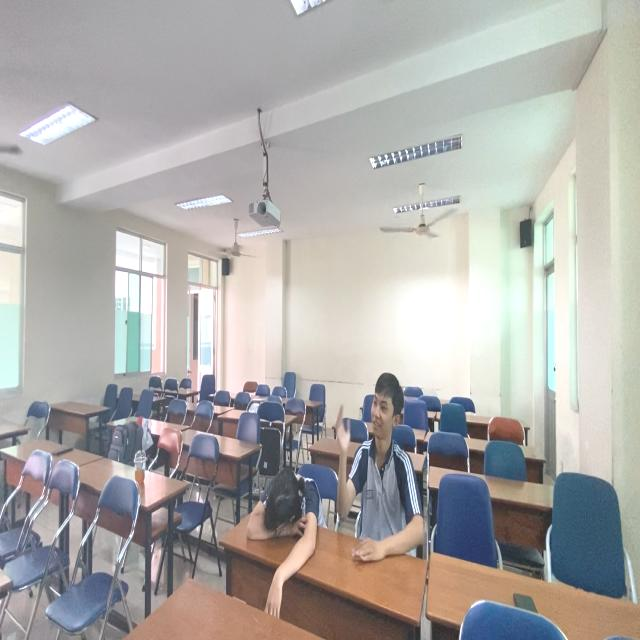raise_hand: (330, 375, 418, 566)
sleep: (243, 456, 324, 560)
